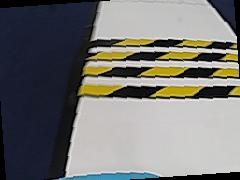bump: (81, 30, 236, 106)
